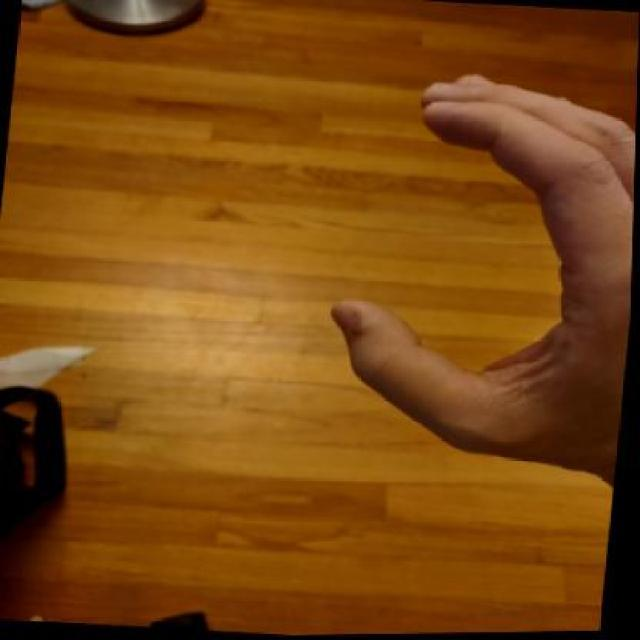C: (307, 57, 640, 490)
